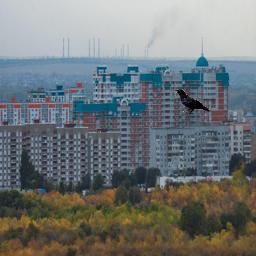Crow: (174, 89, 211, 114)
